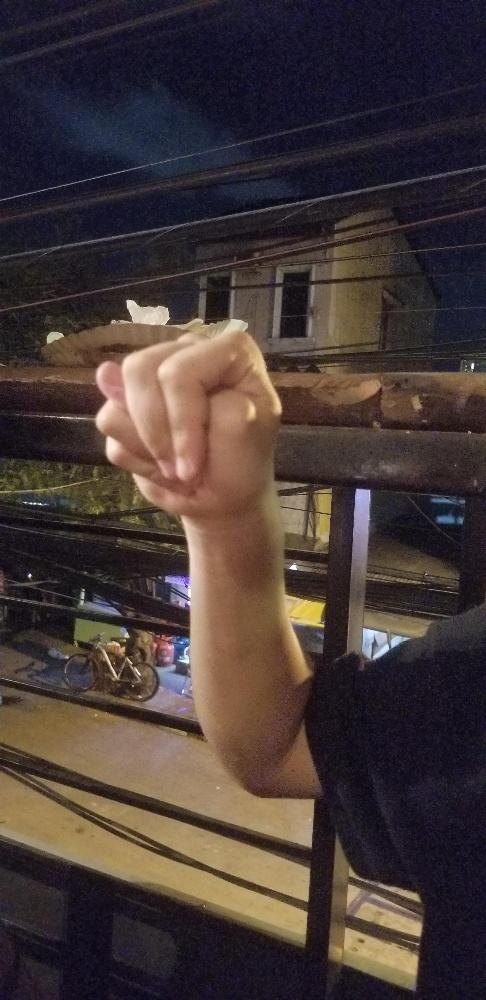n: (89, 322, 285, 521)
